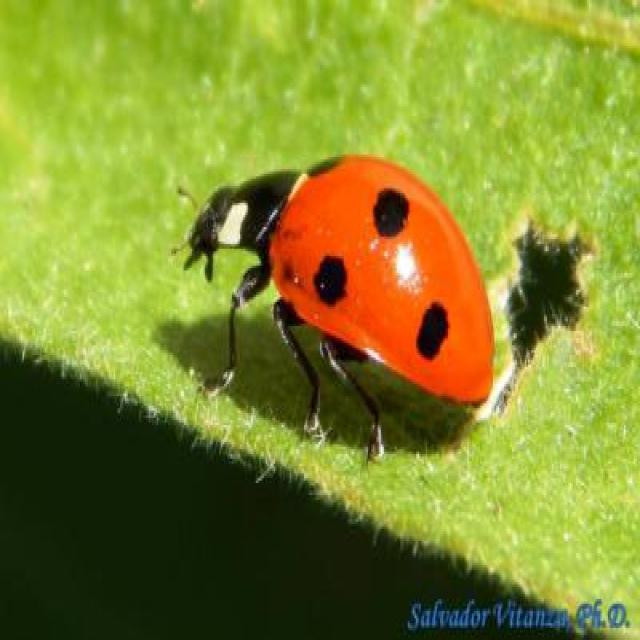antennae: (173, 169, 212, 264)
body: (194, 158, 493, 406)
insect: (172, 150, 496, 473)
legs: (208, 256, 385, 463)
wings: (275, 158, 492, 406)
